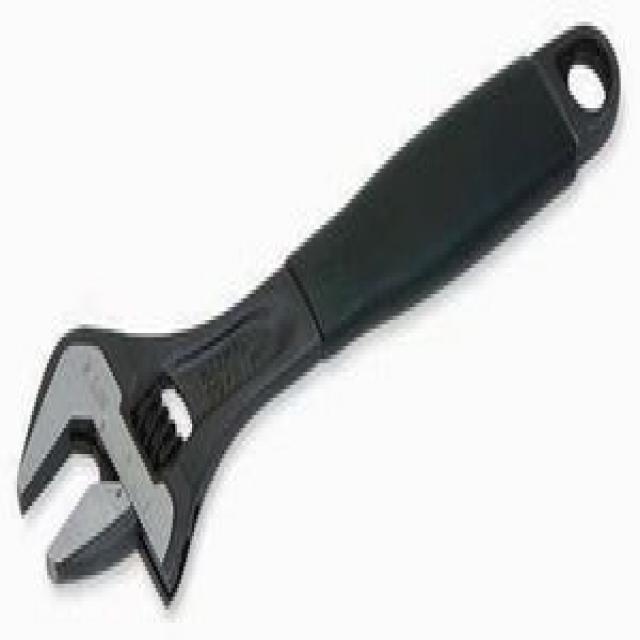wrench: (14, 12, 624, 610)
